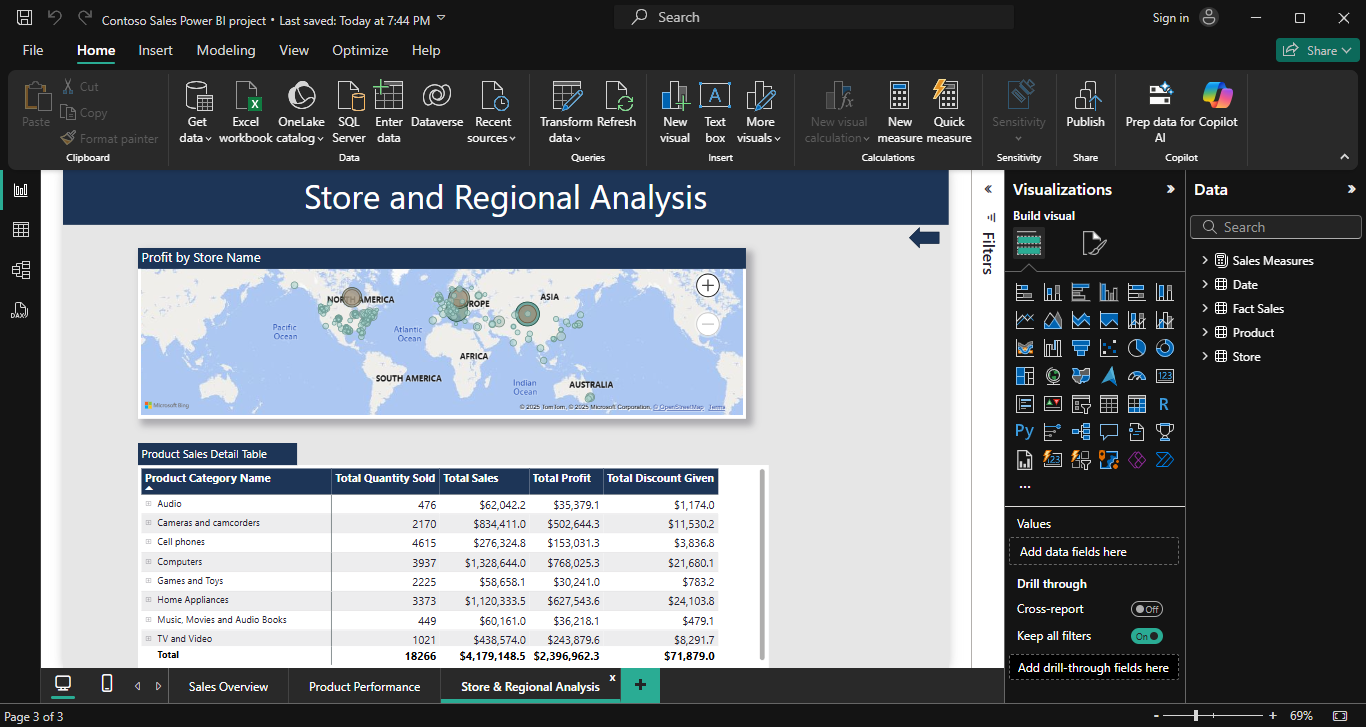

The page's visual inventory and layout, read from the dashboard file:
{"tool":"powerbi","page":{"name":"Store & Regional Analysis ","canvas":[1280,720],"ordinal":2},"visuals":[{"type":"pivotTable","fields":{"Rows":["Product.Product Category Name","Product.Product Name"],"Values":["Sales Measures.Total Quantity Sold","Sales Measures.Total Sales","Sales Measures.Total Profit","Sales Measures.Total Discount Given"]},"box":[108.6,425.9,912.1,294.4],"z":0},{"type":"map","fields":{"Size":["Sales Measures.Total Profit"],"Category":["Store.Store Name"]},"box":[108.6,113.4,879.5,247.3],"z":1000},{"type":"shape","box":[0,0,1280,78.6],"z":3000},{"type":"textbox","box":[0,0,1280,78.6],"z":3500},{"type":"textbox","box":[108.1,394,229.9,32.3],"z":3501},{"type":"shape","box":[1223.3,82,44.6,31.4],"z":3502}]}

Visuals, with their boxes on the page's 1280x720 design canvas (x1, y1, x2, y2). These are canvas units, not pixel positions in the 1366x727 screenshot, which may show the page scaled, cropped or inside an application window:
pivotTable - Product.Product Category Name x Product.Product Name: detection(109, 426, 1021, 720)
map - Sales Measures.Total Profit x Store.Store Name: detection(109, 113, 988, 361)
shape: detection(0, 0, 1280, 79)
textbox: detection(0, 0, 1280, 79)
textbox: detection(108, 394, 338, 426)
shape: detection(1223, 82, 1268, 113)
